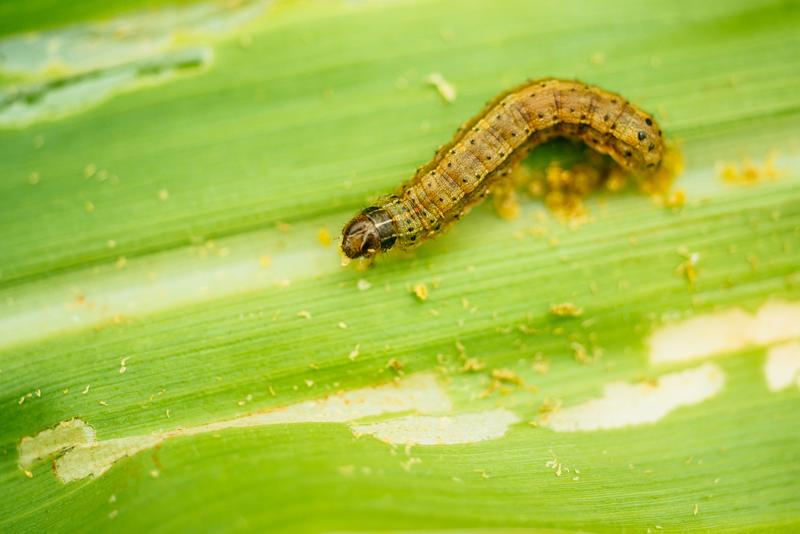Armyworm: (321, 61, 679, 290)
